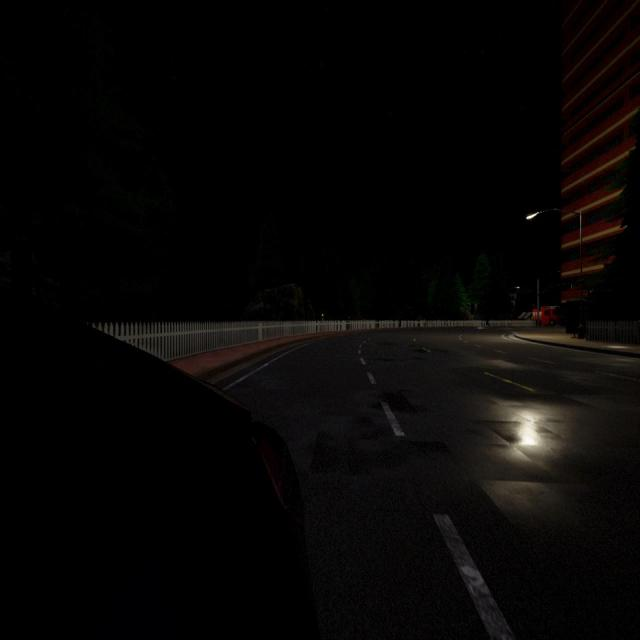Vehicle: (0, 289, 318, 639), (532, 306, 560, 331)
